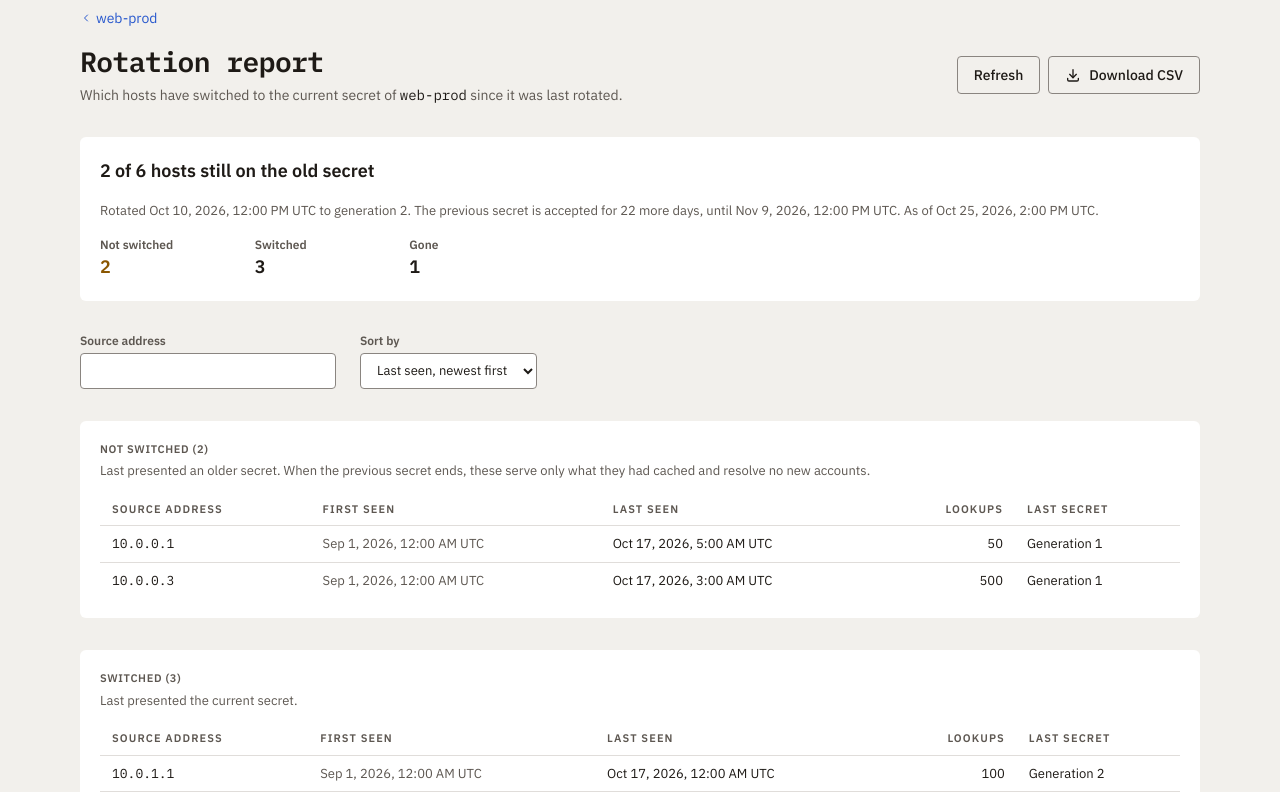
Test: Rotation report › refresh › should keep the last figures and say so when a refresh fails
The image size is (1280, 792).
Click the button with test id "rotation-refresh". click: [998, 74]
box: [957,56,1040,94]
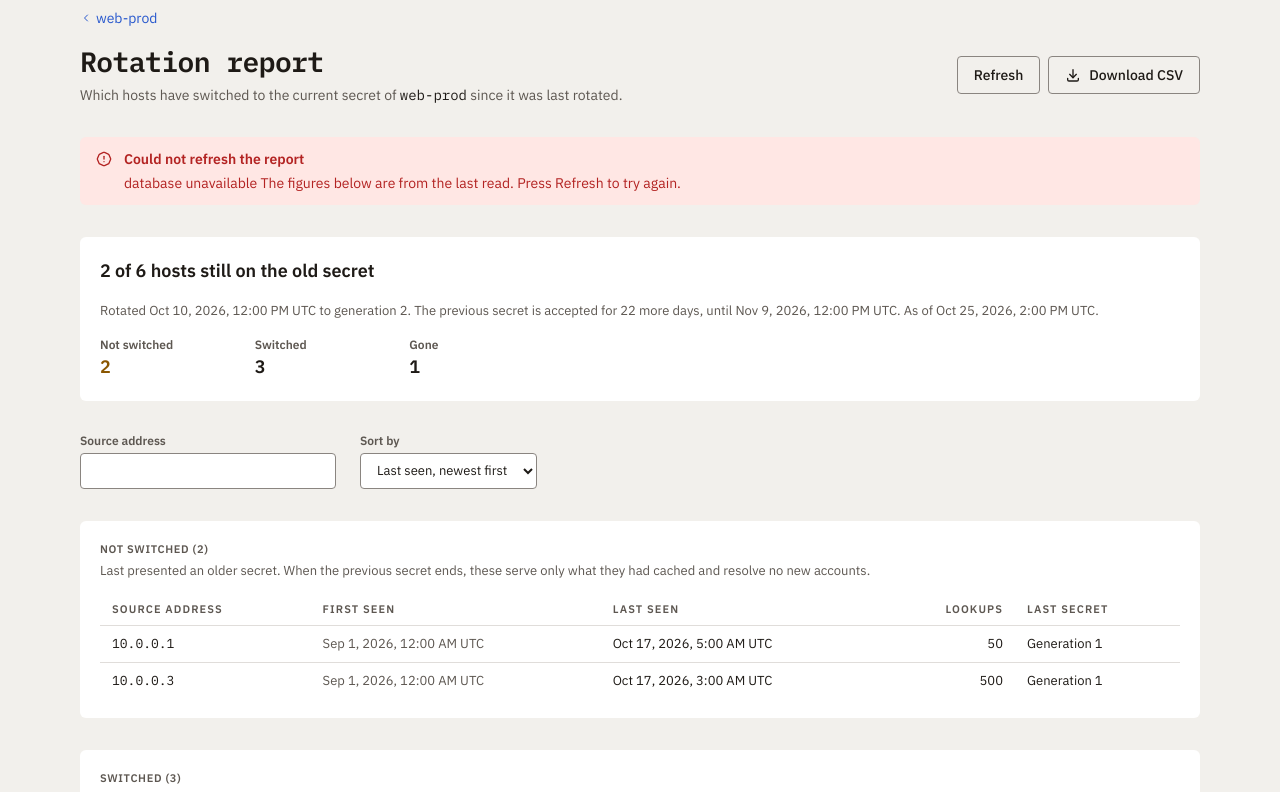
Expected: the message with test id "rotation-refresh-error" shows "The figures below are from the last read.", [124,174,681,192]
